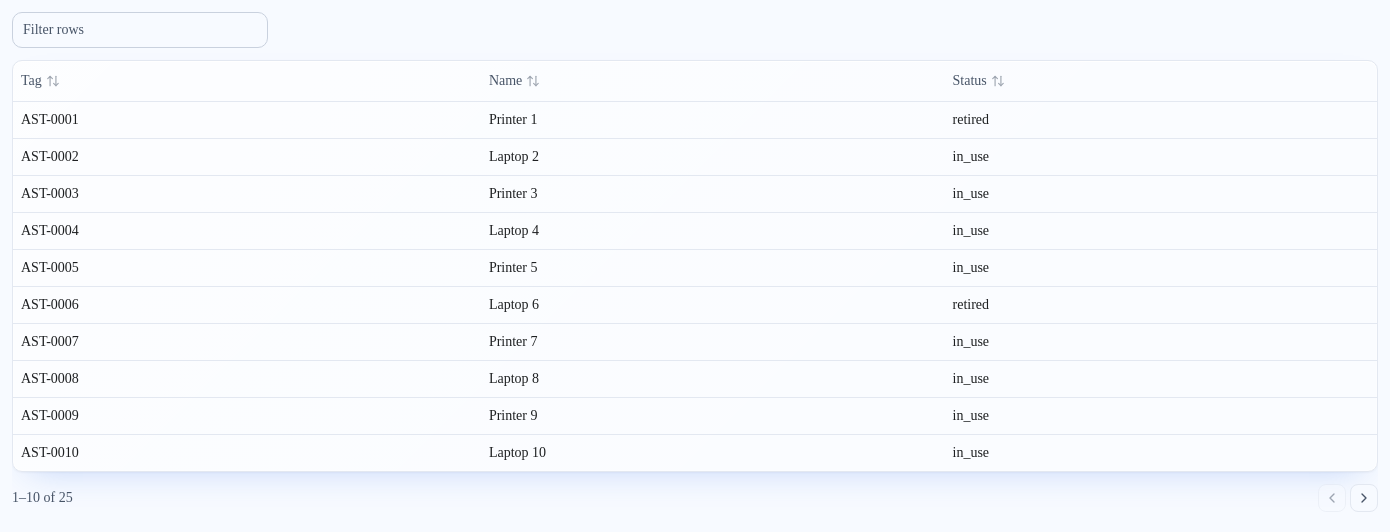
it: DataTable › pages through rows and reports the range
Expected: the text "1–10 of 25" is shown, [12,488,73,508]
Click the button named "Next page". click: (1364, 498)
box: [1350,484,1378,512]
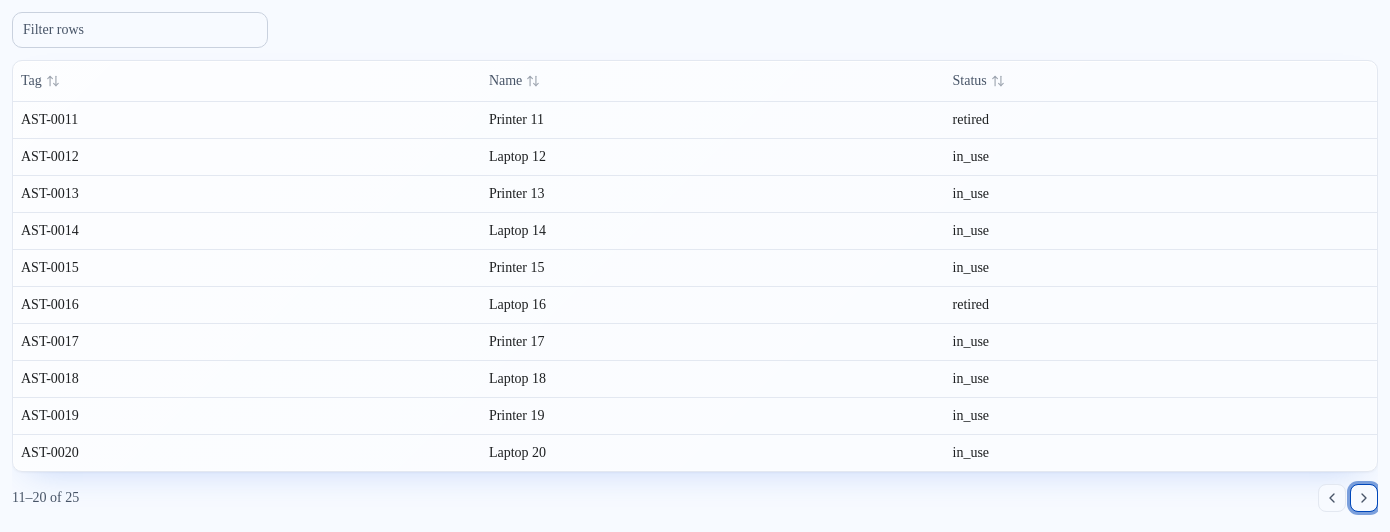
Expected: the text "11–20 of 25" is shown, [12,488,79,508]
